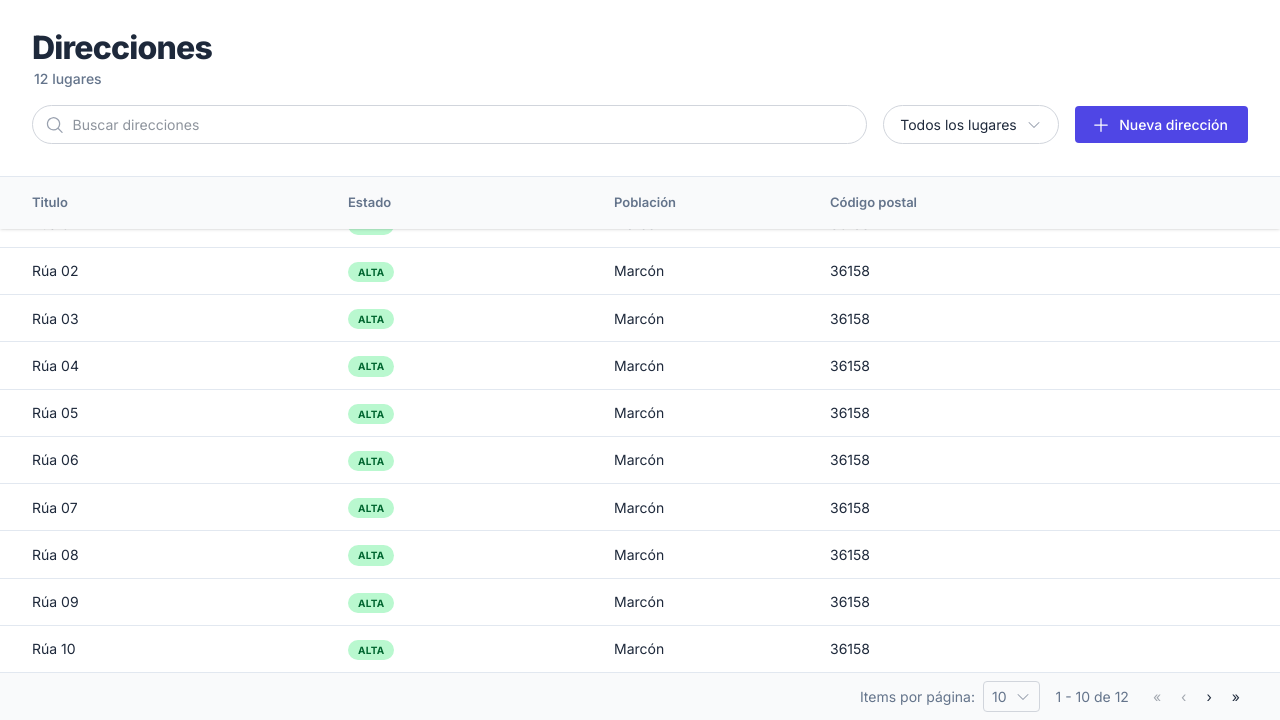
Test: LugaresList › cambiar el tamaño de página vuelve a la primera
(page scrolled)
Click the button "»". click: x=1236, y=696
box: [1224,682,1248,711]
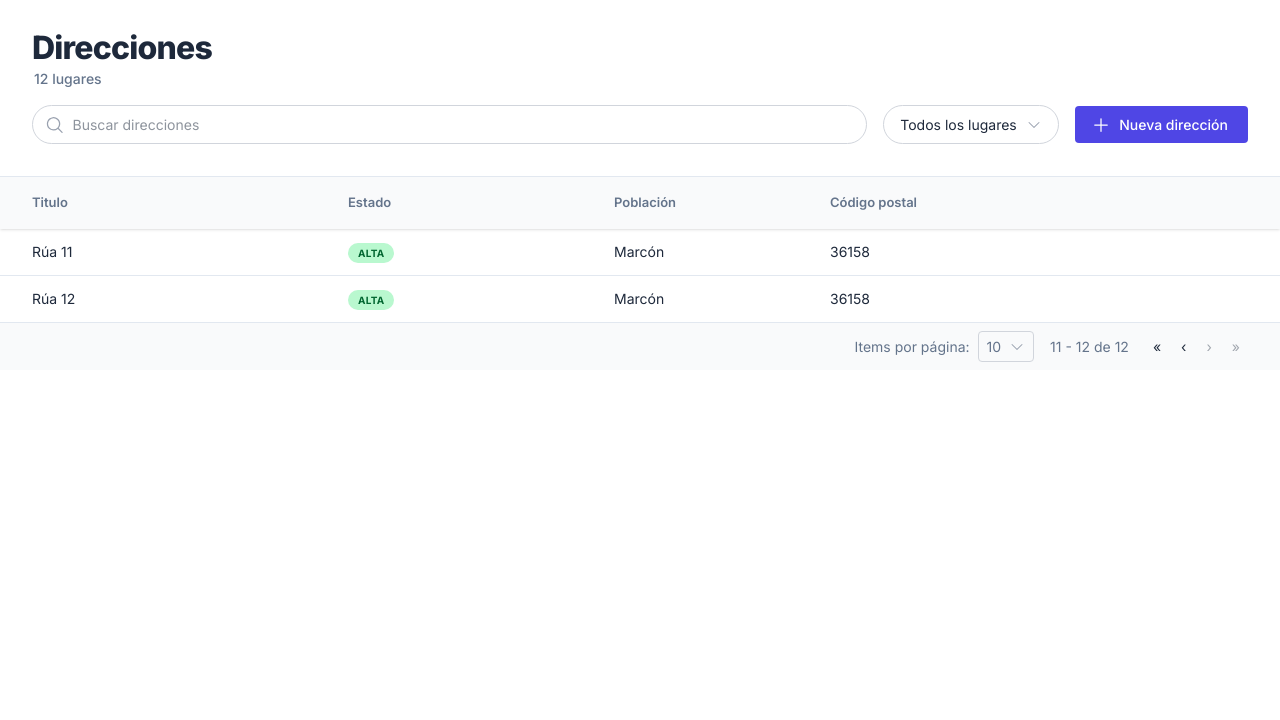
Now the text "11 - 12 de 12" is shown, box [1050,336,1129,357]
Click the dropdown named "Items por página". click: x=1006, y=346
box: [978,331,1034,362]
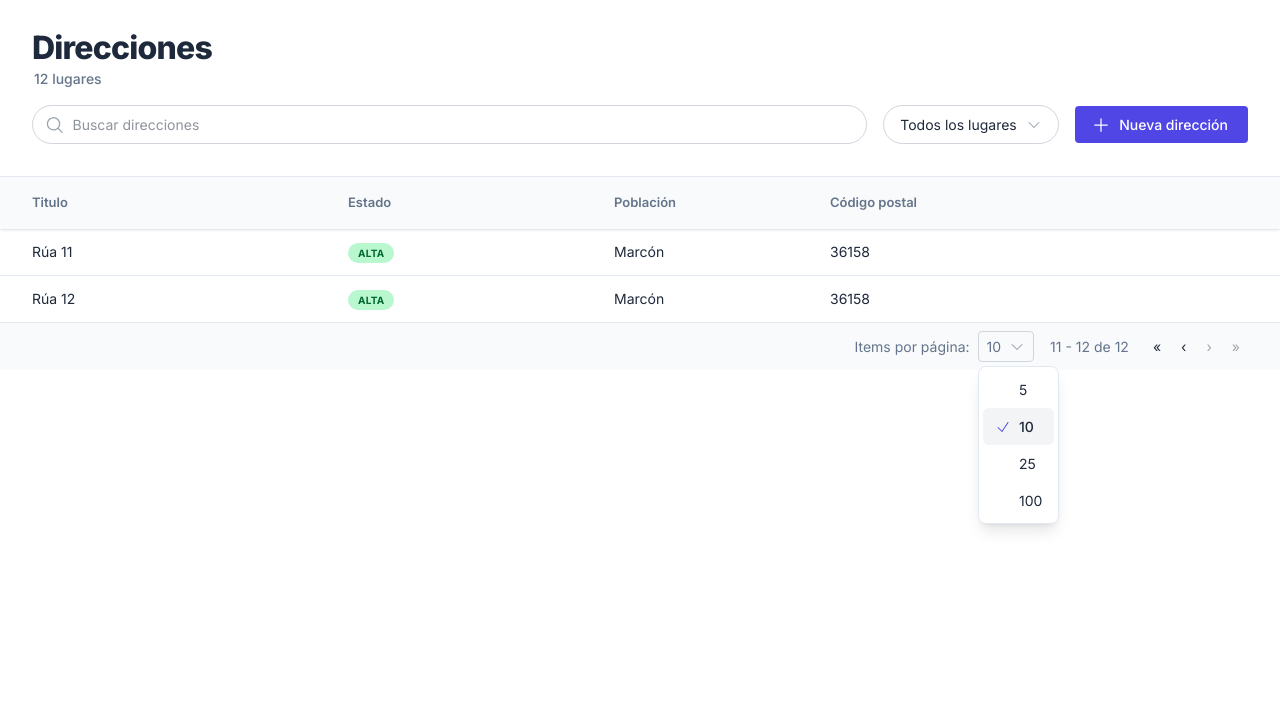
Click the option "5". click: x=1023, y=390
box: [1019,381,1027,398]
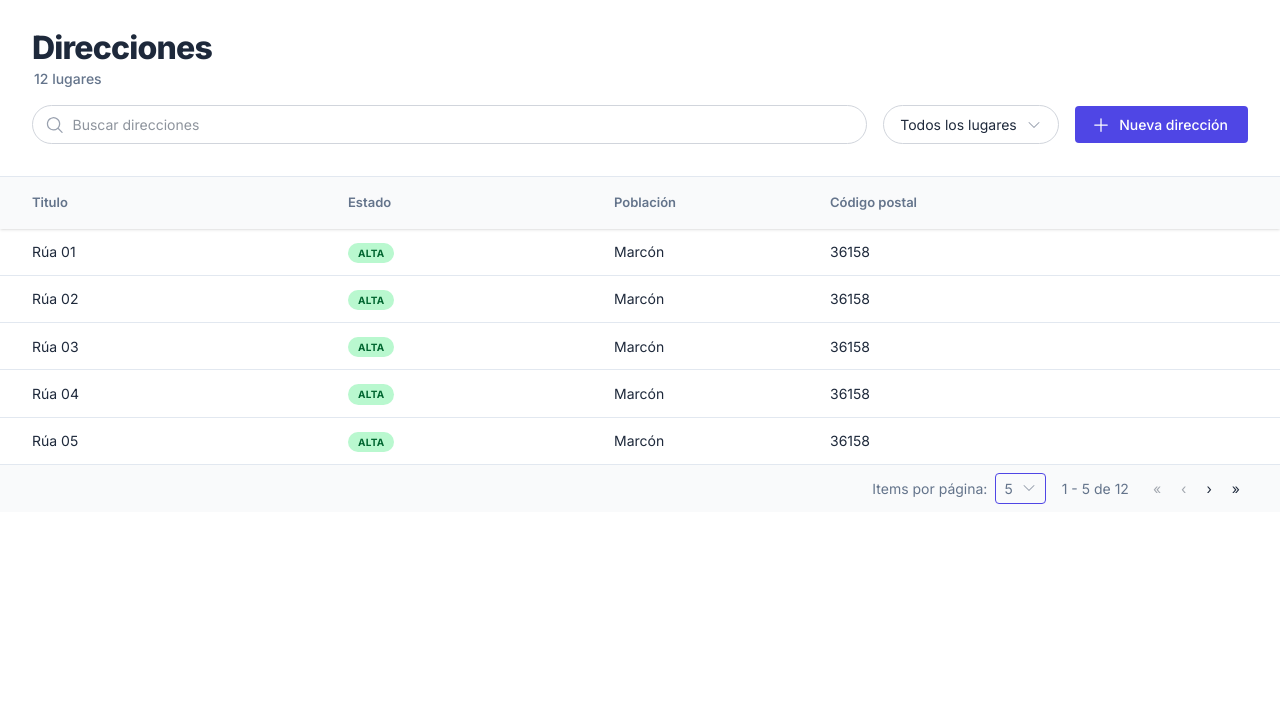
Now the text "1 - 5 de 12" is shown, box [1062,478,1129,499]
